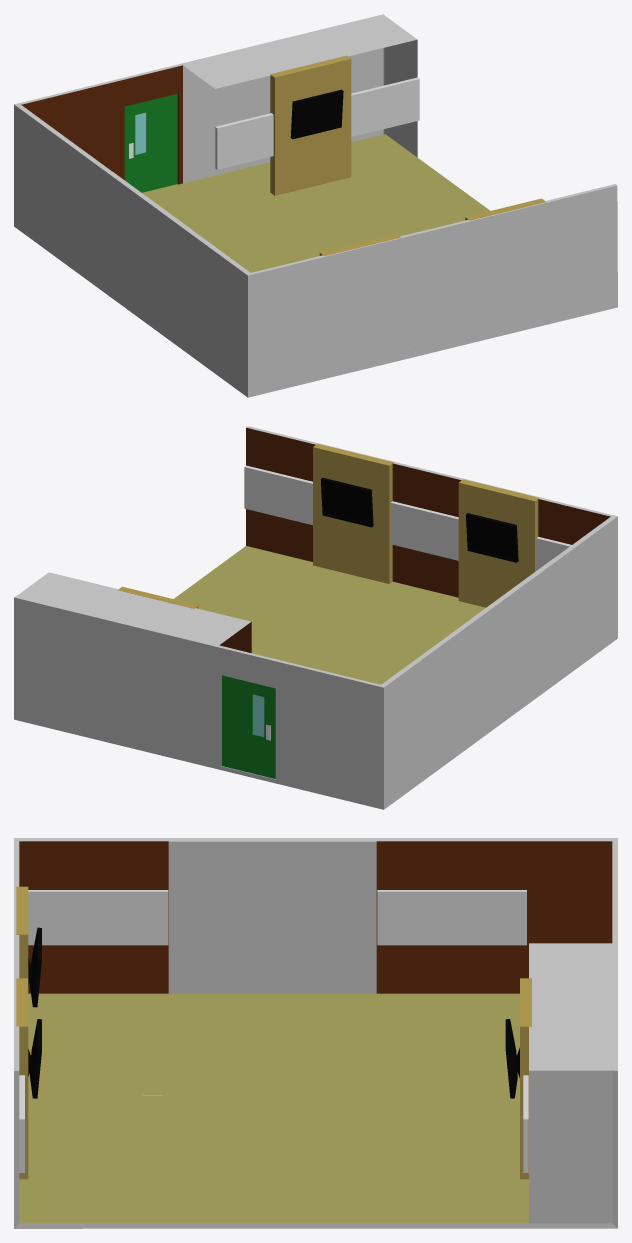
Rendered from Smart_Classroom.glb.
3 renders of one model, top to bottom at view 1: azimuth 30°, elevation 25°; view 2: azimuth 150°, elevation 25°; view 3: azimuth 270°, elevation 25°, orthographic. The views are drawn at different scales.
Visible parts, largest first — view 1: Class Base, Panel.003, BoArD_RiGhT.001, BoArD_RiGhT.002, TV.002; view 2: Class Base, Panel.002, Panel.001, BoArD_LeFt.002, BoArD_LeFt.001, TV.001, TV, BoArD_LeFt; view 3: Class Base, Screen, BoArD.001, BoArD, Panel.002, Panel.003, Panel.001, TV.002, TV, TV.001, BoArD_LeFt.002, BoArD_RiGhT.001.
Part boxes in pixels (x1,y1,x2,y2): Class Base: (14, 14, 617, 397); Panel.003: (270, 55, 351, 195); BoArD_RiGhT.001: (351, 77, 419, 136); BoArD_RiGhT.002: (215, 113, 273, 169); TV.002: (290, 89, 343, 139); Class Base: (14, 426, 617, 809); Panel.002: (313, 443, 393, 583); Panel.001: (458, 479, 539, 607); BoArD_LeFt.002: (244, 465, 312, 525); BoArD_LeFt.001: (390, 501, 458, 560); TV.001: (321, 477, 373, 527); TV: (466, 513, 518, 562); BoArD_LeFt: (536, 537, 571, 570); Class Base: (14, 838, 617, 1228); Screen: (168, 841, 376, 993); BoArD.001: (377, 890, 526, 945); BoArD: (28, 890, 168, 945); Panel.002: (16, 978, 28, 1179); Panel.003: (520, 978, 531, 1179); Panel.001: (16, 886, 28, 978); TV.002: (505, 1019, 519, 1098); TV: (28, 927, 41, 1007); TV.001: (28, 1019, 41, 1098); BoArD_LeFt.002: (19, 1075, 24, 1172); BoArD_RiGhT.001: (523, 1075, 528, 1172).
Size of the model in its own units: 4.03 by 1.27 by 4.42.
